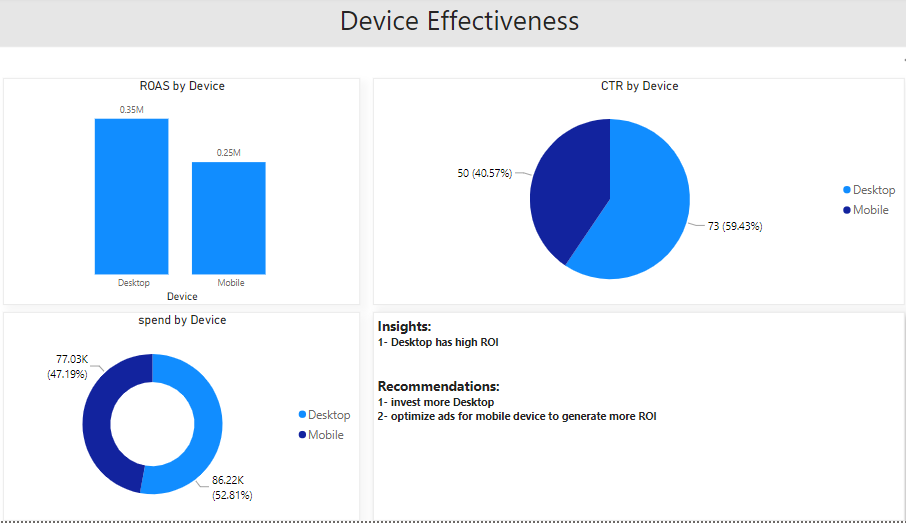

Layout of this report page (visuals, bound fields, positions):
{"tool":"powerbi","page":{"name":"Device effectiveness","canvas":[1280,720],"ordinal":2},"visuals":[{"type":"textbox","box":[0,0,1280,68.7],"z":0},{"type":"clusteredColumnChart","title":" ROAS by Device","fields":{"Category":["data.Device"],"Y":["Sum(data.ROAS)"]},"box":[12.4,111.4,490.8,312.1],"z":1000},{"type":"donutChart","title":" spend by Device","fields":{"Category":["data.Device"],"Y":["data.total spend"]},"box":[12.4,433.1,490.8,287.3],"z":2000},{"type":"pieChart","title":" CTR by Device","fields":{"Category":["data.Device"],"Y":["Sum(data.CTR)"]},"box":[521.1,111.4,731.4,312.1],"z":3000},{"type":"textbox","box":[521,433,731,287],"z":4000}]}

Visuals, with their boxes in screenshot pixels (x1, y1, x2, y2), scaled from the page's 1280x720 canvas onto the 906x524 screenshot:
textbox: rect(0, 0, 905, 50)
" ROAS by Device" clusteredColumnChart: rect(9, 81, 356, 308)
" spend by Device" donutChart: rect(9, 315, 356, 523)
" CTR by Device" pieChart: rect(369, 81, 887, 308)
textbox: rect(369, 315, 886, 523)
